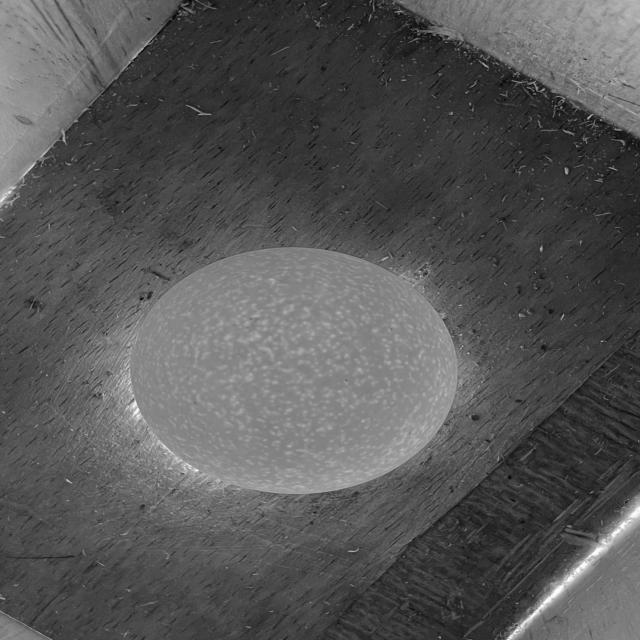telur: (122, 237, 467, 503)
